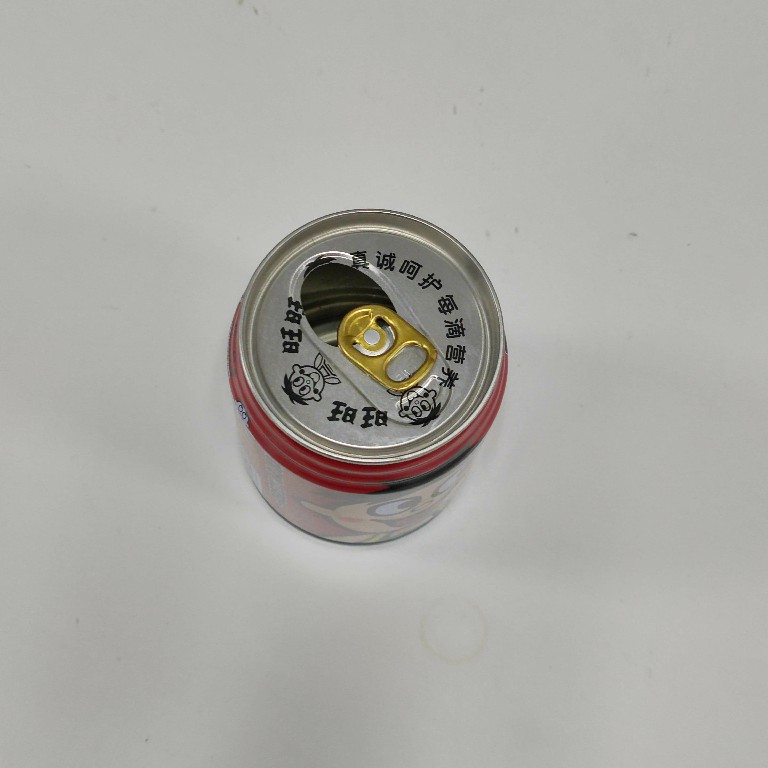can: (222, 204, 513, 552)
